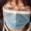with_mask: (2, 2, 31, 31)
